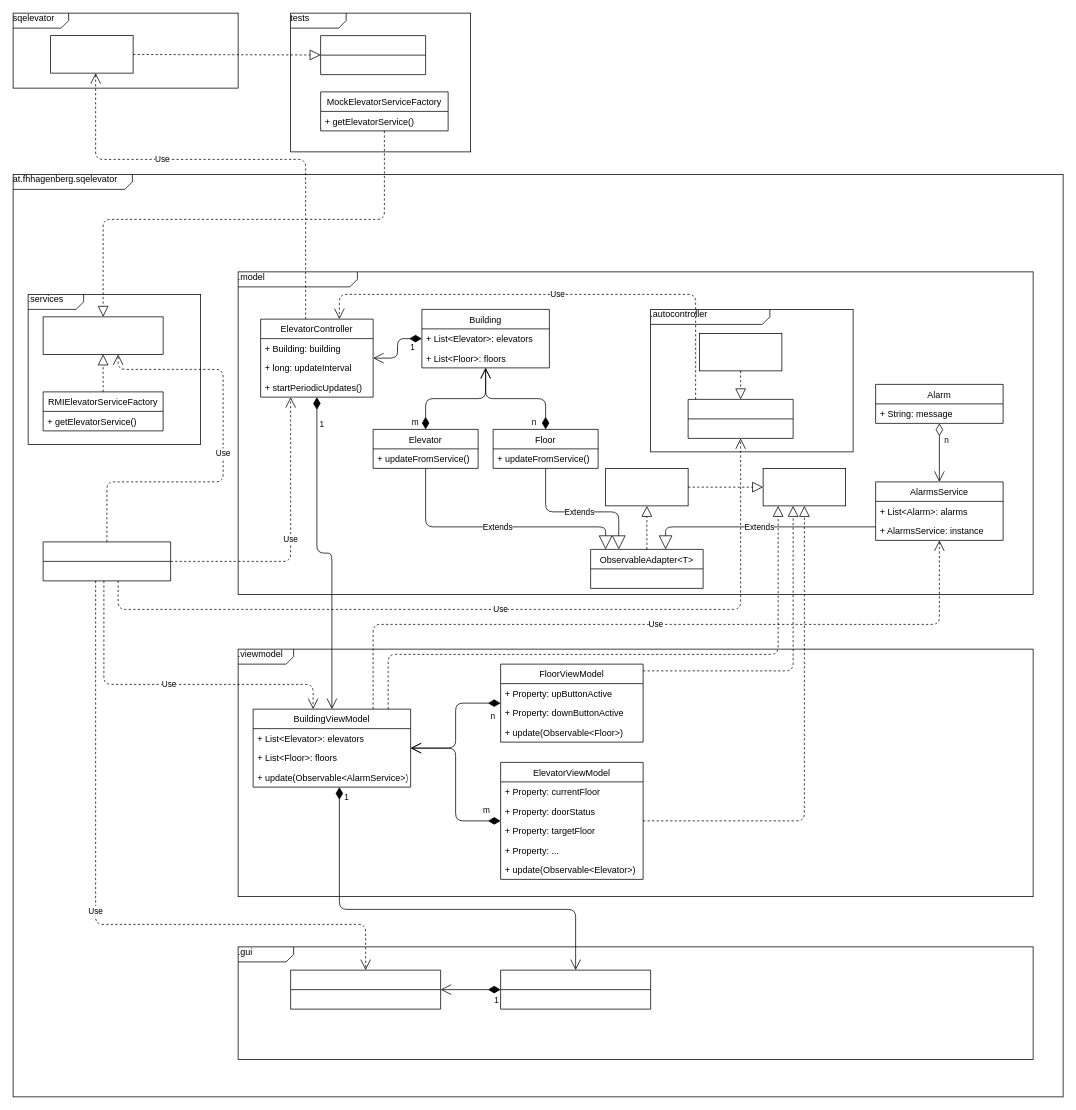
The diagram is 1076 pixels wide and 1110 high, and some of its shapes have lost their labels. Here are the shapes that lost their labels. From the top down, the centre of each, then its label:
At [91,54]: "«interface» IElevator".
At [373,55]: "MockElevator".
At [102,335]: "«interface» IElevatorServiceFactory".
At [740,352]: "«interface» IControlAlgorithm".
At [740,418]: "SimpleControlAlg.".
At [646,487]: "«interface» Observable<T>".
At [804,487]: "«interface» Observer<T>".
At [106,561]: "ApplicationMain".
At [365,989]: "ElevatorControlCenterPane".
At [575,989]: "ElevatorPanel".
